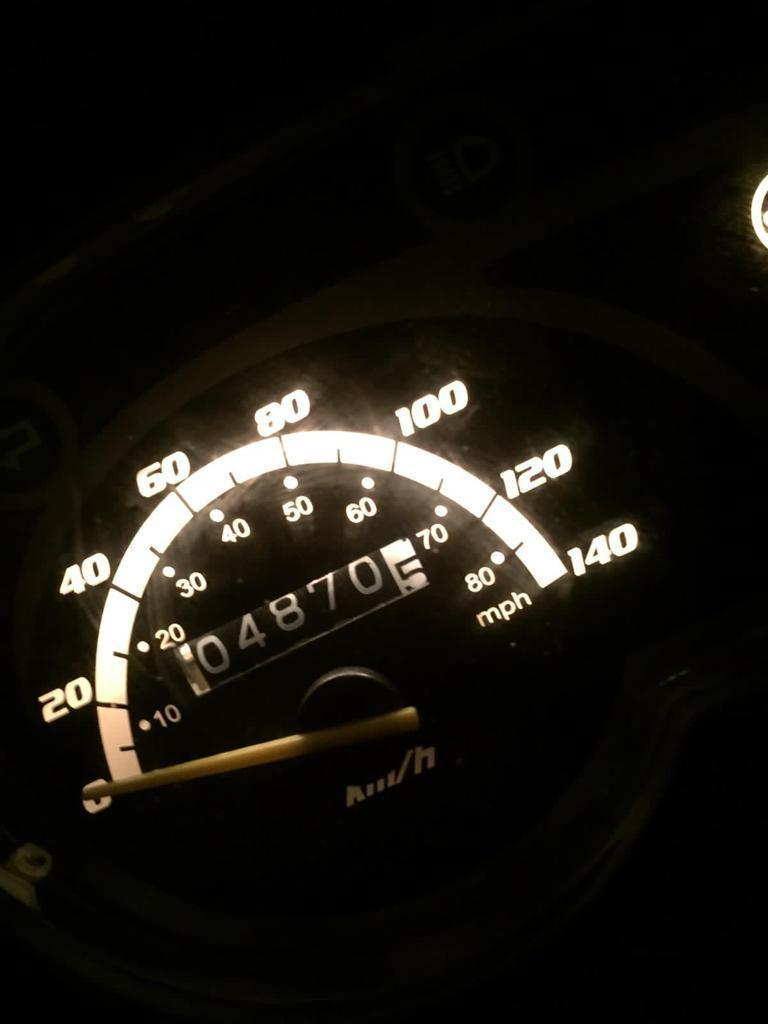0: (192, 633, 231, 675), (346, 556, 382, 596), (188, 571, 208, 590), (168, 620, 183, 642)
3: (174, 576, 195, 601)
4: (232, 612, 269, 659), (219, 524, 236, 546)
5: (391, 552, 432, 592)
7: (307, 570, 340, 612), (416, 529, 430, 556)
8: (267, 592, 306, 632)
odometer: (168, 527, 443, 706)
